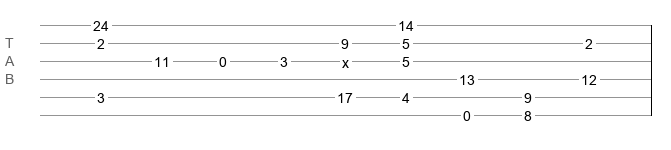0: (219, 54, 227, 64), (463, 108, 471, 118)
11: (154, 54, 170, 64)
12: (581, 72, 597, 82)
13: (459, 72, 475, 82)
14: (398, 18, 414, 28)
17: (337, 90, 353, 100)
2: (97, 36, 105, 46), (585, 36, 593, 46)
24: (93, 18, 109, 28)
3: (97, 90, 105, 100), (280, 54, 288, 64)
4: (402, 90, 410, 100)
5: (402, 36, 410, 46), (402, 54, 410, 64)
8: (524, 108, 532, 118)
9: (341, 36, 349, 46), (524, 90, 532, 100)
x: (342, 55, 349, 63)
